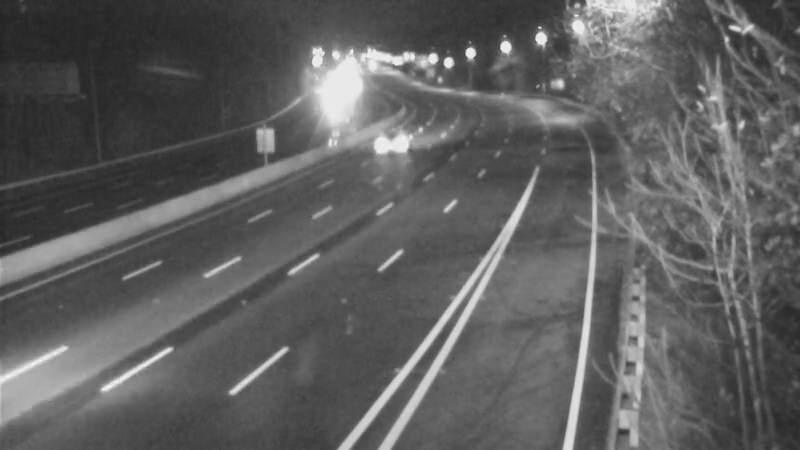vehicle: (379, 116, 429, 166)
